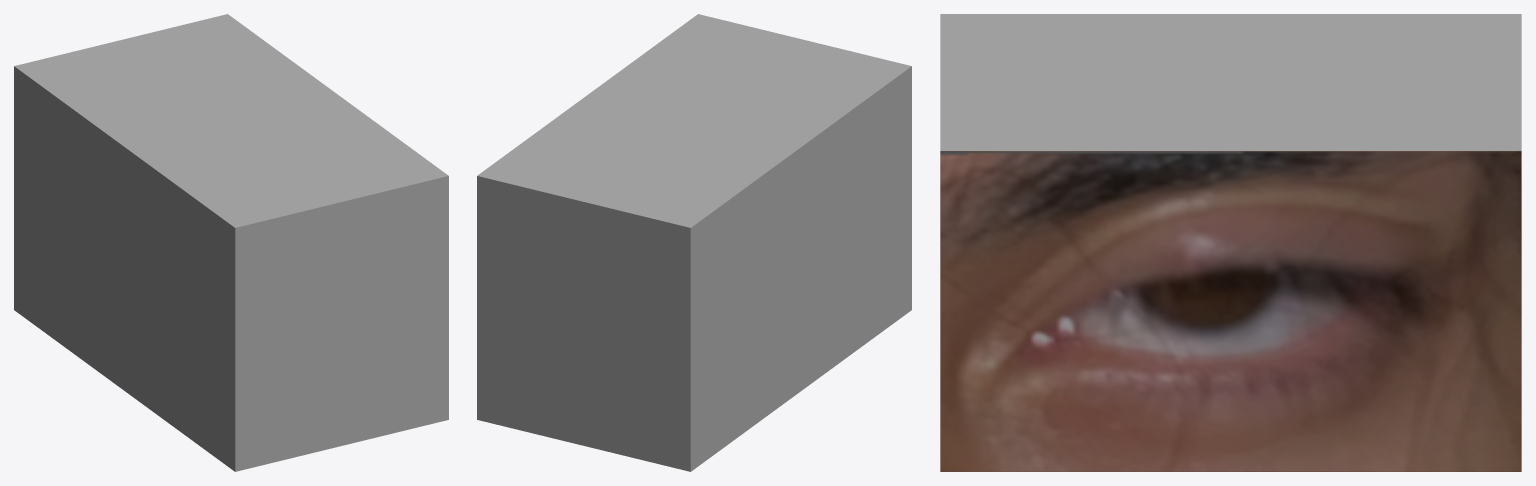
File: eye cube.glb
3 views of the same model, side by side, from view 1: azimuth 30°, elevation 25°; view 2: azimuth 150°, elevation 25°; view 3: azimuth 270°, elevation 25° (orthographic). The views are drawn at different scales.
Parts seen in each view (by area): view 1: Cube; view 2: Cube; view 3: Cube.
Part boxes in pixels (x1,y1,x2,y2): Cube: (14, 14, 448, 471); Cube: (477, 14, 911, 471); Cube: (940, 14, 1521, 471).
Bounding box in the file's own units: 1.54 × 1.68 × 2.76.
Materials: 2 (1 with a texture image).
